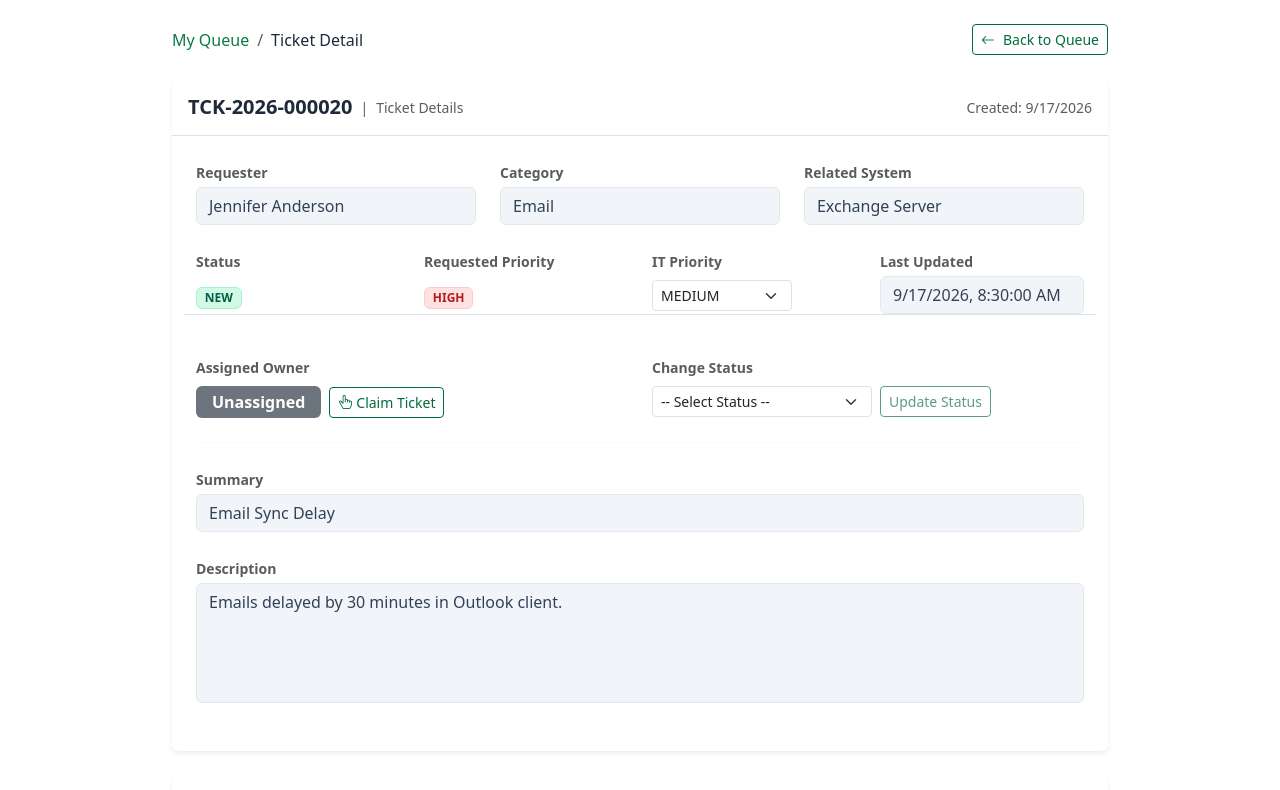
TicketDetailPage - IT Staff Operations (Lab 3 UI-20 to UI-26) › UI-23 / AC-11: executes direct status transition to OPEN via Change Status dropdown
Expected: the heading "TCK-2026-000020" is shown, [188,95,352,119]
// Select OPEN
Select "Open" in the dropdown named "change status" at (762, 402), box [652,386,872,417]
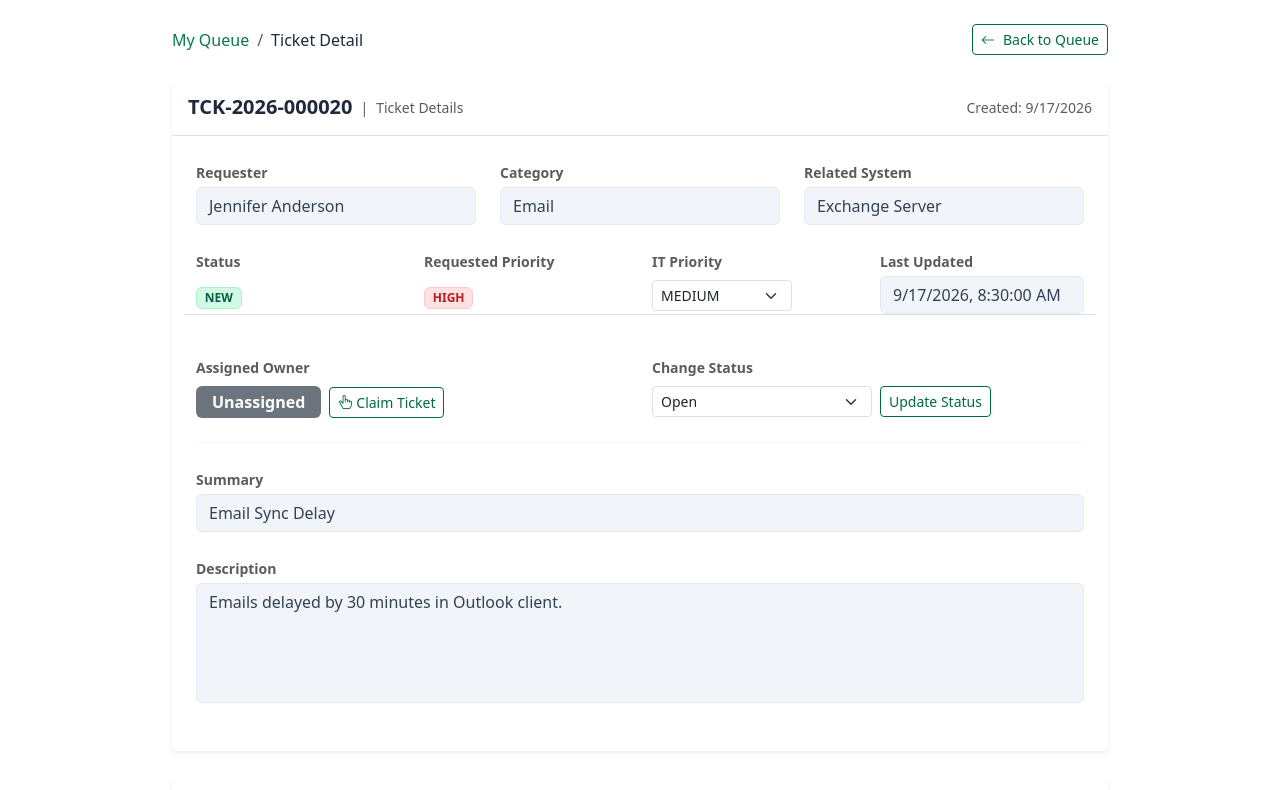
Expected: the button "Update Status" is enabled
Click the button "Update Status" at (935, 402), box [880,386,991,417]
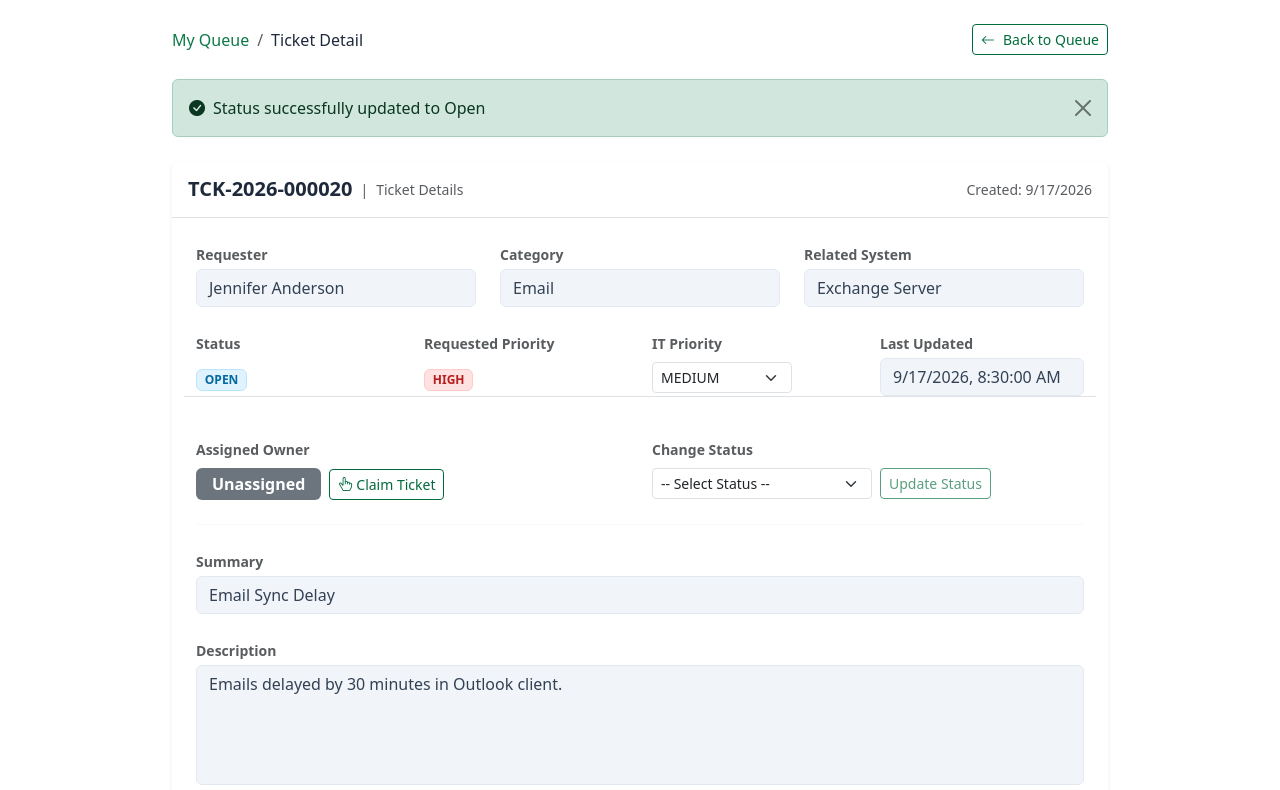
Expected: the text "Status successfully updated to Open" is shown, [172,79,1108,137]
